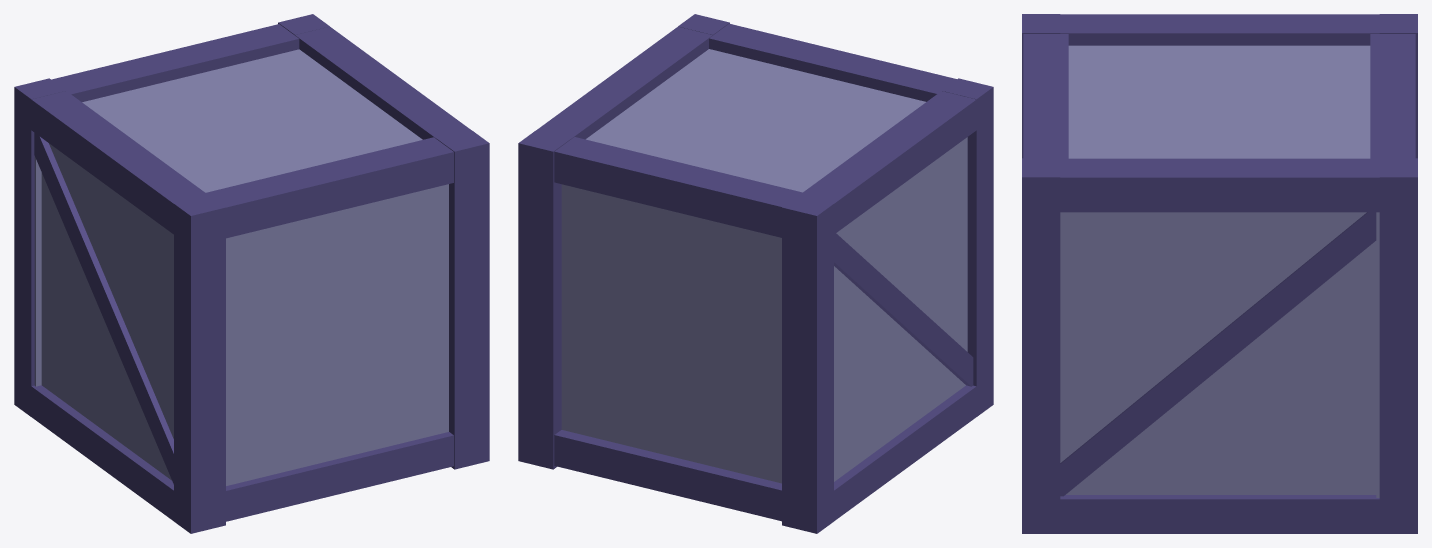
The model's file is box_broken.fbx.
The picture shows the model from 3 angles, left to right: view 1: azimuth 30°, elevation 25°; view 2: azimuth 150°, elevation 25°; view 3: azimuth 270°, elevation 25°; orthographic projection. The views are drawn at different scales.
Parts seen in each view (by area): view 1: Cube.002, Cube, Cube.004, Cube.025, Cube.014, Cube.026, Cube.023, Cube.027, Cube.024, Cube.029, Cube.017, Cube.021 (+3 smaller); view 2: Cube.003, Cube, Cube.004, Cube.024, Cube.016, Cube.029, Cube.023, Cube.028, Cube.025, Cube.026, Cube.017, Cube.022 (+2 smaller); view 3: Cube.001, Cube.004, Cube.017, Cube.016, Cube.014, Cube.018, Cube.019, Cube.023, Cube.029, Cube.026, Cube.024, Cube.003 (+1 smaller).
Boxes of the visible parts, bbox=[...] form: Cube.002: bbox=[226, 184, 448, 485]; Cube: bbox=[41, 143, 173, 480]; Cube.004: bbox=[82, 49, 422, 192]; Cube.025: bbox=[174, 195, 225, 533]; Cube.014: bbox=[437, 131, 489, 469]; Cube.026: bbox=[206, 137, 453, 238]; Cube.023: bbox=[31, 91, 208, 234]; Cube.027: bbox=[226, 432, 453, 521]; Cube.024: bbox=[14, 78, 65, 416]; Cube.029: bbox=[51, 24, 299, 102]; Cube.017: bbox=[295, 26, 471, 139]; Cube.021: bbox=[34, 133, 173, 484]; Cube.003: bbox=[561, 184, 781, 483]; Cube: bbox=[834, 137, 967, 481]; Cube.004: bbox=[586, 49, 925, 192]; Cube.024: bbox=[782, 195, 833, 533]; Cube.016: bbox=[518, 131, 570, 469]; Cube.029: bbox=[554, 137, 802, 237]; Cube.023: bbox=[799, 91, 976, 234]; Cube.028: bbox=[554, 430, 781, 521]; Cube.025: bbox=[942, 78, 993, 416]; Cube.026: bbox=[709, 23, 956, 101]; Cube.017: bbox=[536, 26, 712, 139]; Cube.022: bbox=[834, 385, 976, 521]; Cube.001: bbox=[1060, 212, 1376, 494]; Cube.004: bbox=[1068, 45, 1370, 158]; Cube.017: bbox=[1060, 158, 1379, 212]; Cube.016: bbox=[1379, 158, 1417, 533]; Cube.014: bbox=[1022, 158, 1060, 533]; Cube.018: bbox=[1060, 495, 1379, 533]; Cube.019: bbox=[1060, 212, 1376, 496]; Cube.023: bbox=[1060, 14, 1379, 45]; Cube.029: bbox=[1370, 34, 1415, 158]; Cube.026: bbox=[1023, 34, 1068, 158]; Cube.024: bbox=[1379, 14, 1417, 158]; Cube.003: bbox=[1376, 212, 1379, 497].
Bounding box in the file's own units: 79.16 × 80.49 × 81.
